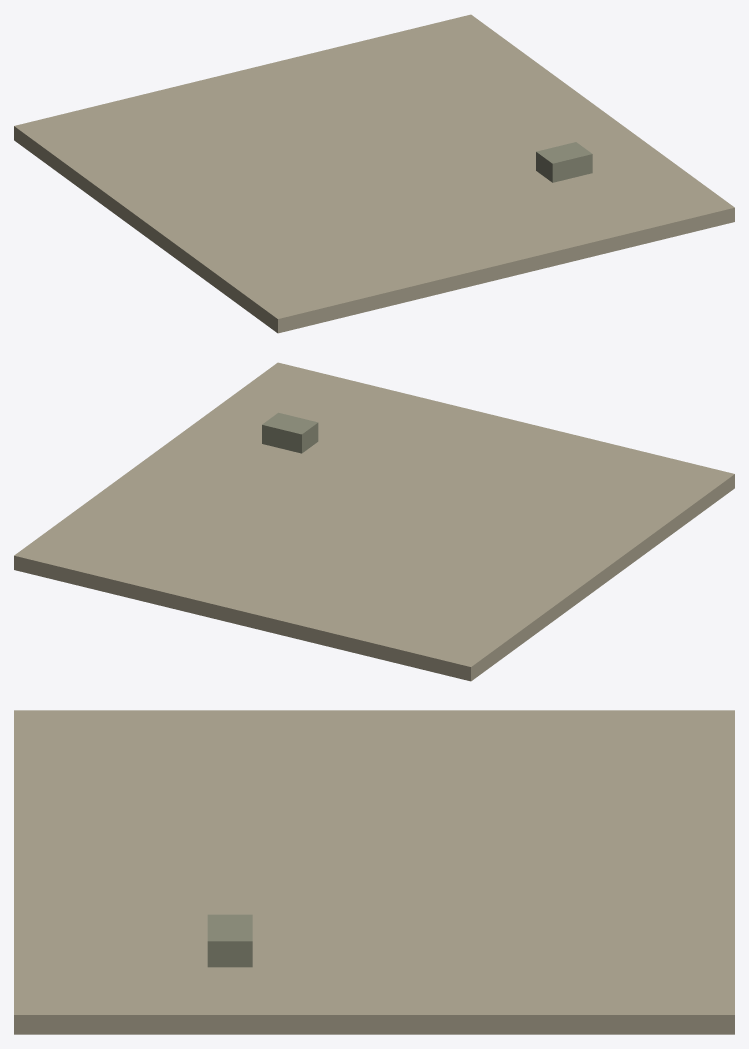
The model's file is terrain-sand.glb.
3 views of the same model, one above another, from view 1: azimuth 30°, elevation 25°; view 2: azimuth 150°, elevation 25°; view 3: azimuth 270°, elevation 25° (orthographic). The views are drawn at different scales.
Visible parts, largest first — view 1: terrain-sand-0, terrain-sand-1; view 2: terrain-sand-0, terrain-sand-1; view 3: terrain-sand-0, terrain-sand-1.
Boxes of the visible parts, x1,y1,x2,y2 form: terrain-sand-0: (14,14,734,333); terrain-sand-1: (536,142,592,182); terrain-sand-0: (14,362,734,681); terrain-sand-1: (262,412,318,453); terrain-sand-0: (14,710,734,1034); terrain-sand-1: (207,914,252,967).
Size of the model in its own units: 4 by 0.28 by 4.
